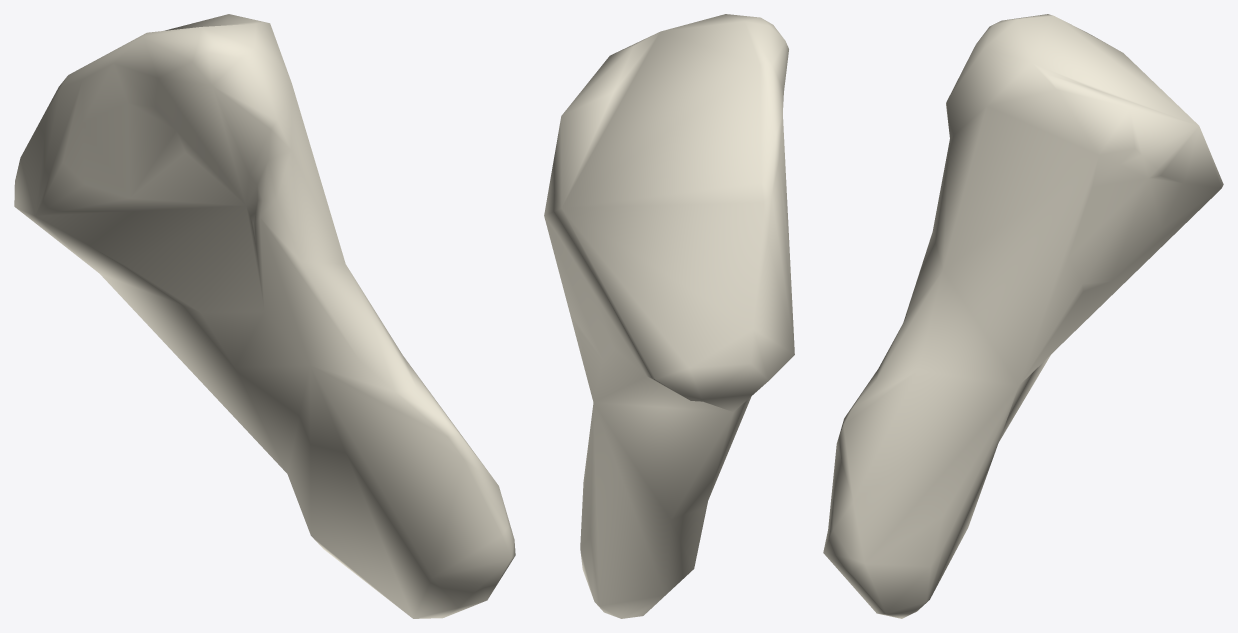
The picture shows the model from 3 angles, left to right: view 1: azimuth 30°, elevation 25°; view 2: azimuth 150°, elevation 25°; view 3: azimuth 270°, elevation 25°; orthographic projection. The views are drawn at different scales.
Parts seen in each view (by area): view 1: ZA_48e48518b26bcfb4; view 2: ZA_48e48518b26bcfb4; view 3: ZA_48e48518b26bcfb4.
Boxes of the visible parts, left/top/right/bottom form: ZA_48e48518b26bcfb4: left=14, top=14, right=515, bottom=618; ZA_48e48518b26bcfb4: left=544, top=14, right=794, bottom=618; ZA_48e48518b26bcfb4: left=823, top=14, right=1223, bottom=618.
Bounding box in the file's own units: 0.014 × 0.0241 × 0.0168.
